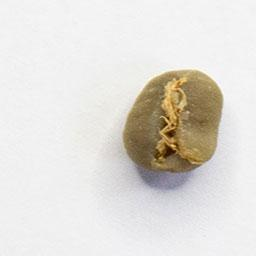peaberry: (121, 66, 225, 177)
